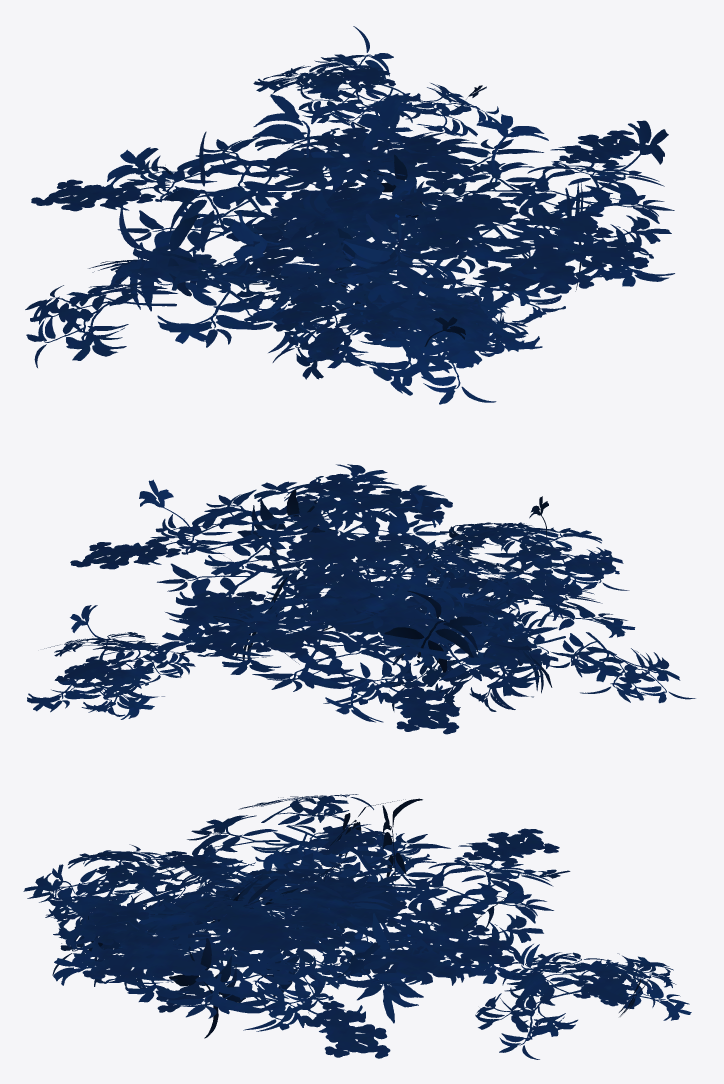
The picture shows the model from 3 angles, top to bottom: view 1: azimuth 30°, elevation 25°; view 2: azimuth 150°, elevation 25°; view 3: azimuth 270°, elevation 25°; orthographic projection. The views are drawn at different scales.
Visible parts, largest first — view 1: SM_FH_Leaf_Piles_04_LOD0; view 2: SM_FH_Leaf_Piles_04_LOD0; view 3: SM_FH_Leaf_Piles_04_LOD0.
Boxes of the visible parts, box(x1,y1,x2,y2) form: SM_FH_Leaf_Piles_04_LOD0: box(25, 26, 674, 404); SM_FH_Leaf_Piles_04_LOD0: box(27, 464, 695, 734); SM_FH_Leaf_Piles_04_LOD0: box(23, 794, 691, 1059).
Size of the model in its own units: 1.15 by 0.2893 by 1.11.
1 material, 1 textured.
